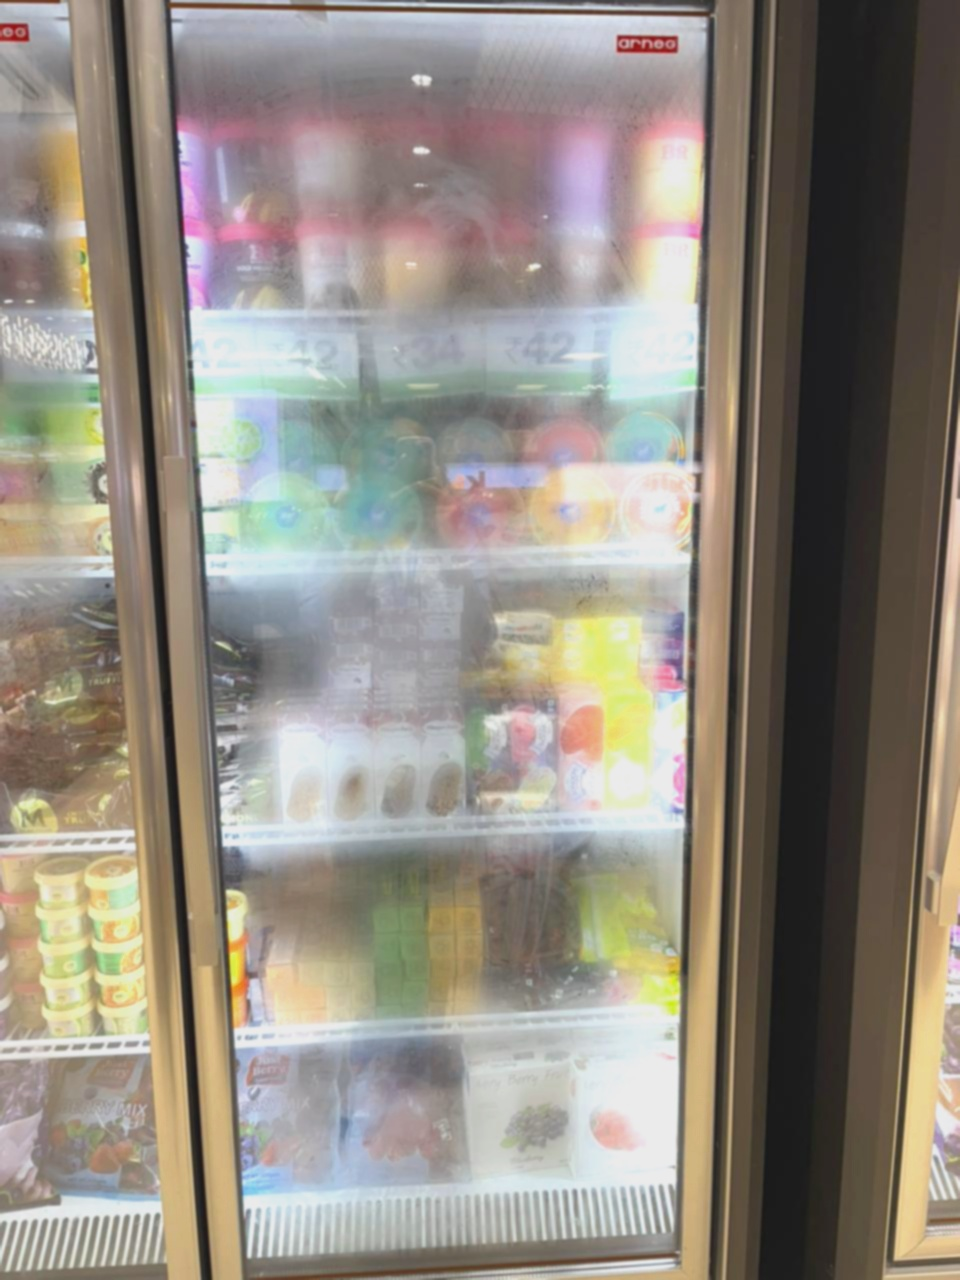Haagen-Dazs IceCream Bars: (273, 712, 333, 829), (321, 710, 376, 833), (417, 702, 468, 827), (372, 710, 425, 829)
